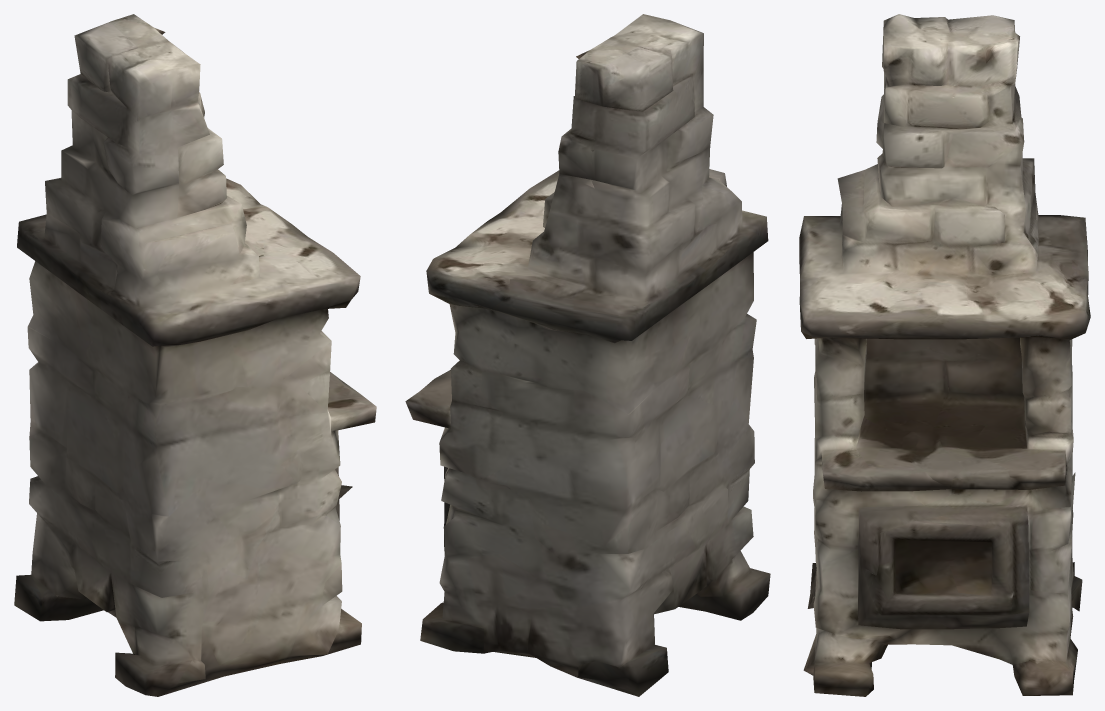
The model's file is e_pech.glb.
The picture shows the model from 3 angles, left to right: view 1: azimuth 30°, elevation 25°; view 2: azimuth 150°, elevation 25°; view 3: azimuth 270°, elevation 25°; orthographic projection.
Parts seen in each view (by area): view 1: tripo_node_612ce981-c138-4f54-9dcb-2e7dcf528c99; view 2: tripo_node_612ce981-c138-4f54-9dcb-2e7dcf528c99; view 3: tripo_node_612ce981-c138-4f54-9dcb-2e7dcf528c99.
Boxes of the visible parts, <box> form: tripo_node_612ce981-c138-4f54-9dcb-2e7dcf528c99: <box>14,14,376,696</box>; tripo_node_612ce981-c138-4f54-9dcb-2e7dcf528c99: <box>405,14,770,696</box>; tripo_node_612ce981-c138-4f54-9dcb-2e7dcf528c99: <box>799,14,1090,696</box>.
Size of the model in its own units: 0.4323 by 1 by 0.4464.
Materials: 1 (1 with a texture image).
